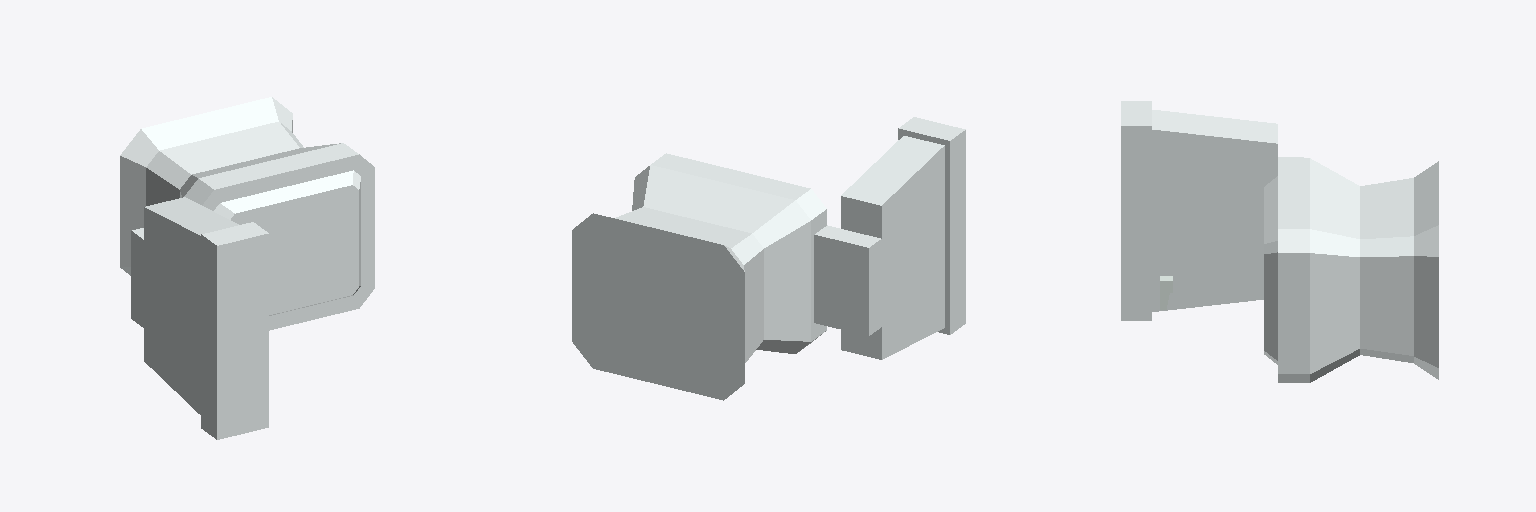
Rendered from toiletSquare.obj.
3 views of the same model, side by side, from view 1: azimuth 30°, elevation 25°; view 2: azimuth 150°, elevation 25°; view 3: azimuth 270°, elevation 25° (orthographic).
Parts seen in each view (by area): view 1: toiletSquare; view 2: toiletSquare; view 3: toiletSquare.
Part boxes in pixels (x1,y1,x2,y2): toiletSquare: (120,97,374,439); toiletSquare: (572,117,965,400); toiletSquare: (1121,101,1438,382).
Bounding box in the file's own units: 3.1 × 2.43 × 3.61.